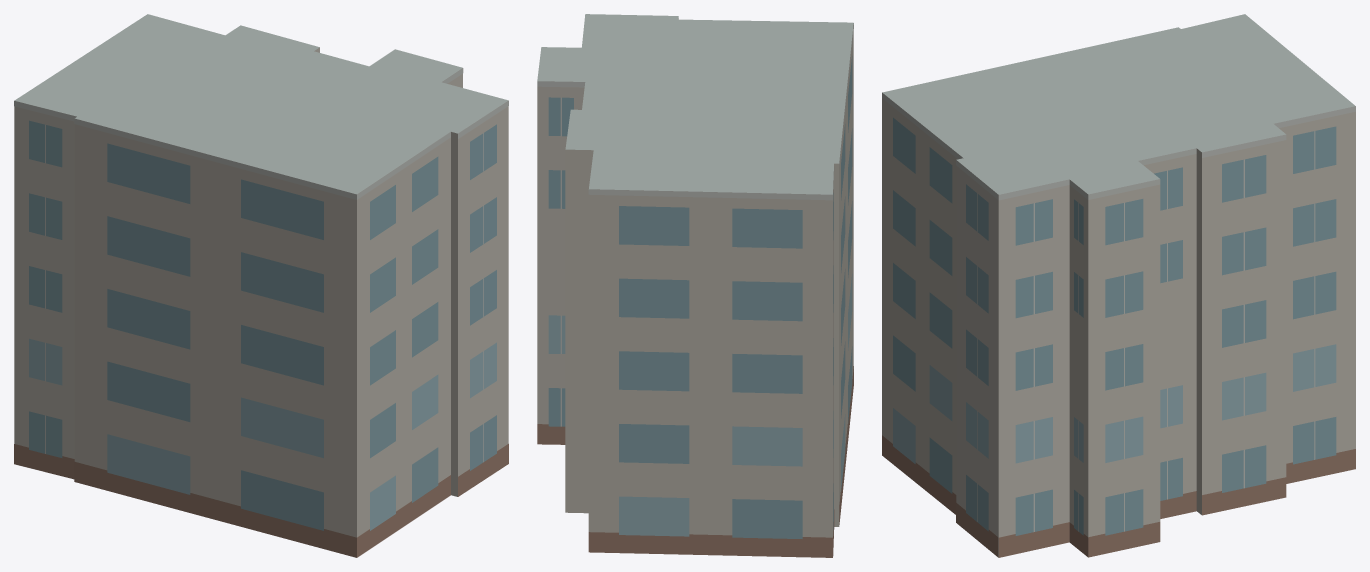
The model's file is survey-upis-32590889.glb.
3 renders of one model, left to right at view 1: azimuth 30°, elevation 25°; view 2: azimuth 150°, elevation 25°; view 3: azimuth 270°, elevation 25°, orthographic.
Visible parts, largest first — view 1: survey-upis-32590889.tmp; view 2: survey-upis-32590889.tmp; view 3: survey-upis-32590889.tmp.
Part boxes in pixels (x1,y1,x2,y2): survey-upis-32590889.tmp: [14, 14, 508, 557]; survey-upis-32590889.tmp: [537, 14, 853, 557]; survey-upis-32590889.tmp: [882, 14, 1355, 557].
Size of the model in its own units: 16.96 by 15.86 by 18.77.
